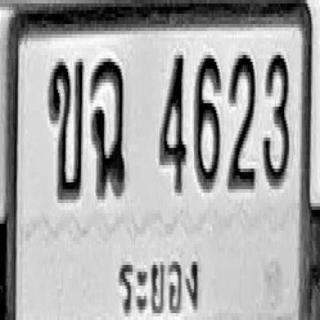A02: (48, 59, 84, 200)
A09: (91, 57, 125, 198)
N02: (227, 52, 256, 189)
N03: (262, 52, 289, 186)
N04: (159, 52, 186, 193)
N06: (195, 52, 220, 189)
P53: (116, 240, 200, 316)
